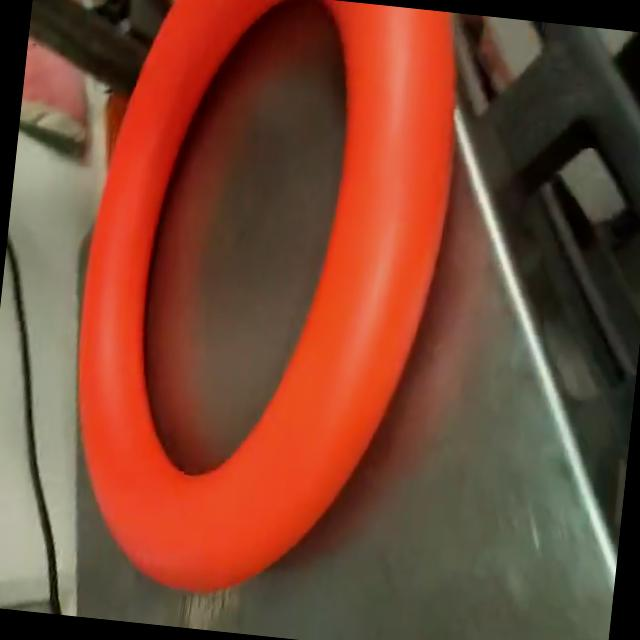note: (44, 0, 471, 624)
